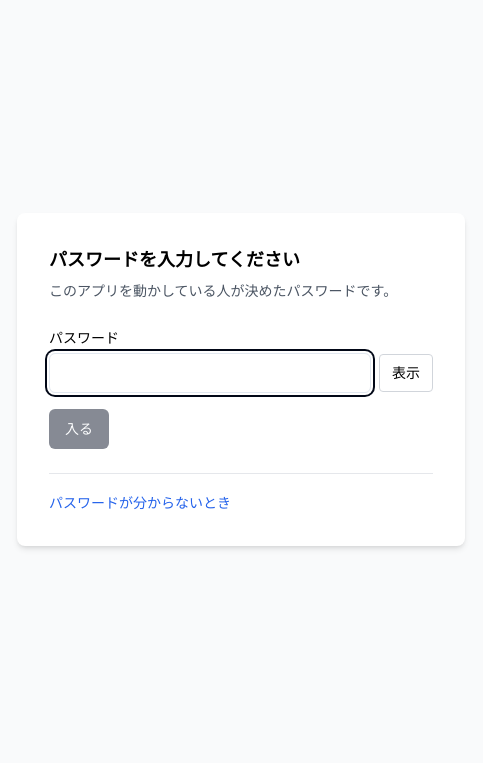
LoginScreen › 「パスワードが分からないとき」の案内を開ける
Step 1. Click the button with test id "auth-login-forgot" → (140, 502), box [49,492,231,512]
(page scrolled)
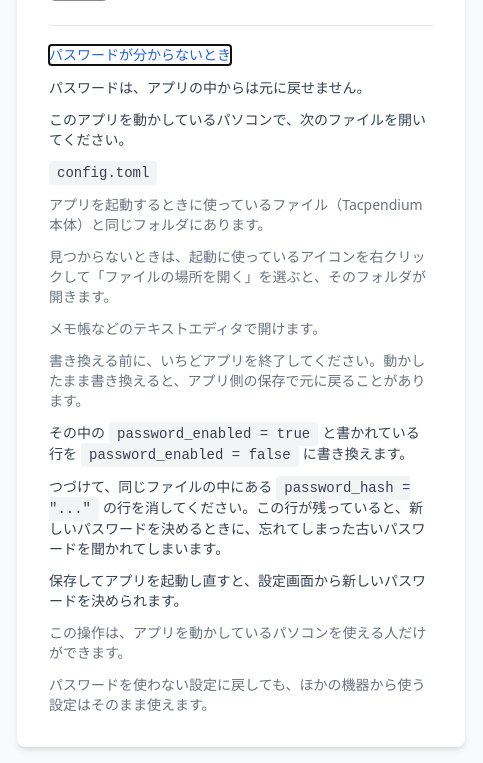
Result: the element with test id "auth-forgot-help" shows "password_enabled = false" at [89,447,291,463]
